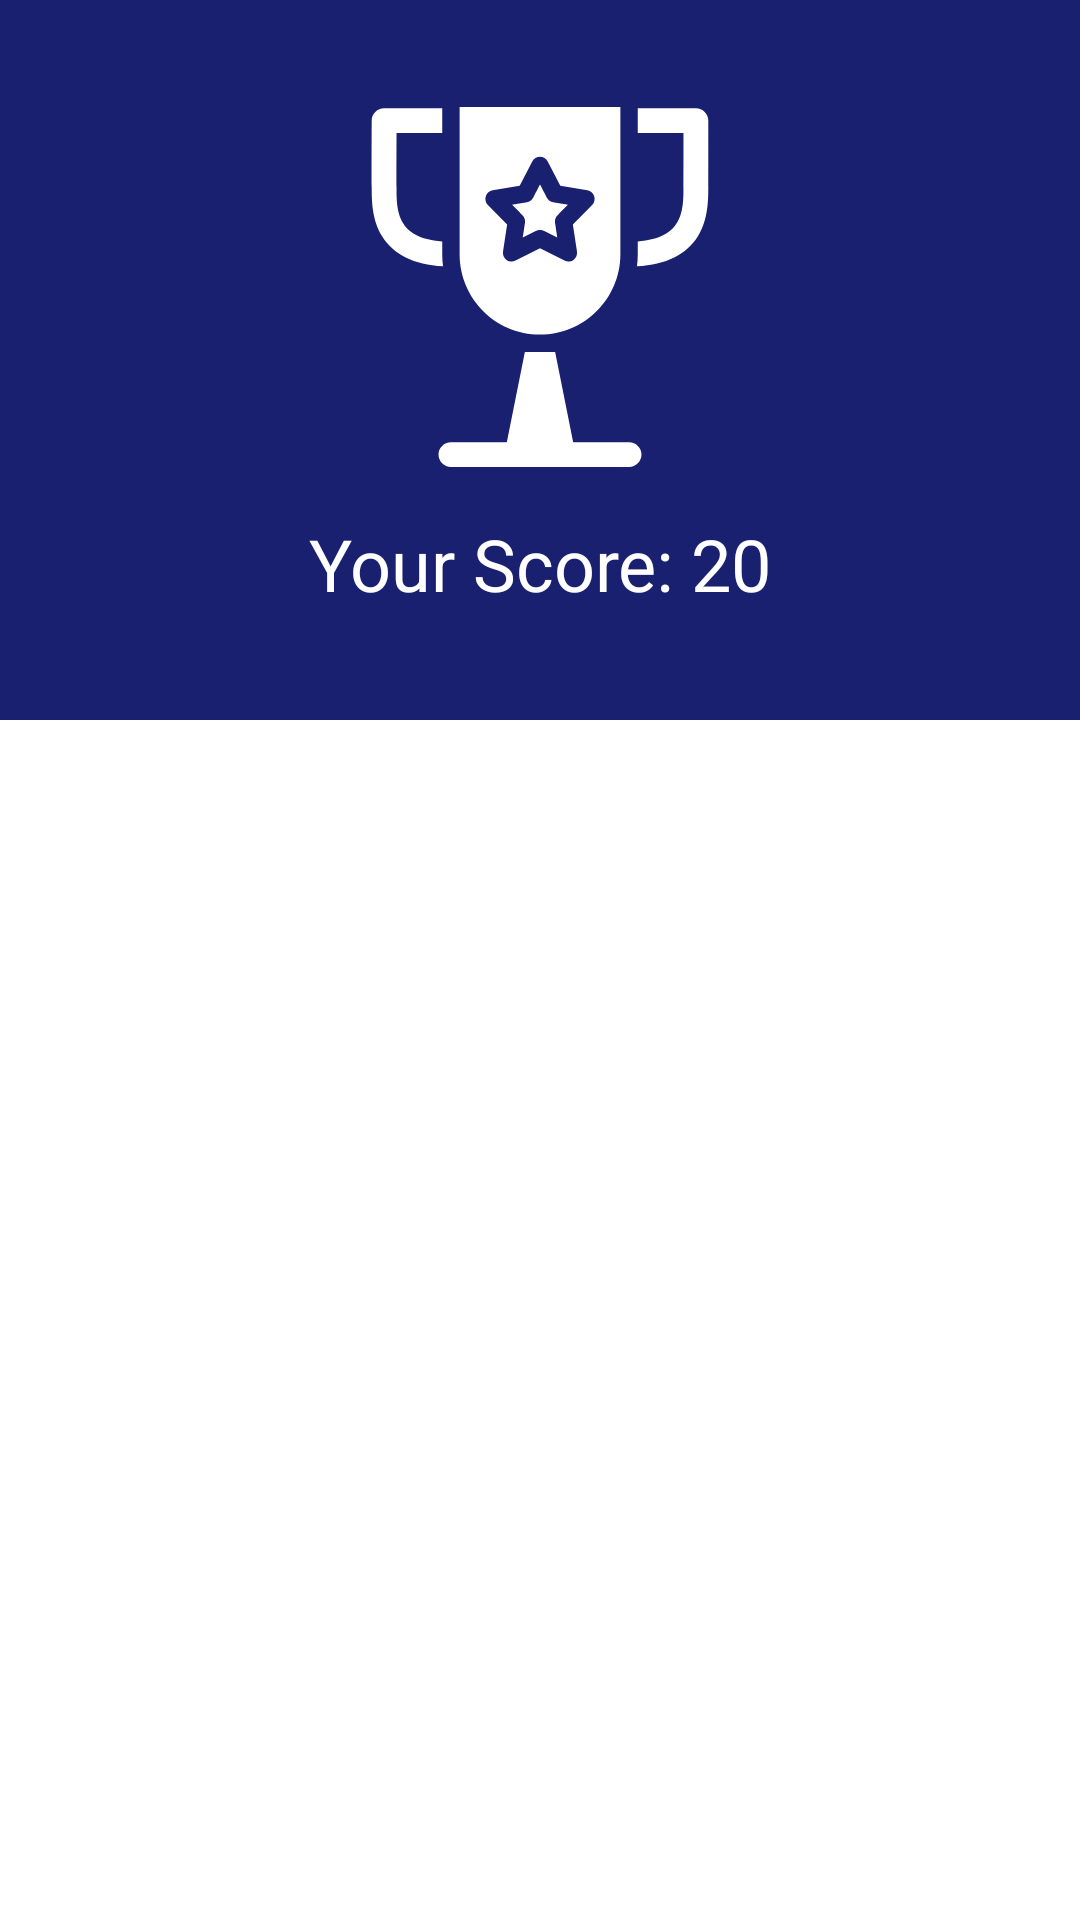

Icon bounding boxes for this 1080*1920 phone screenshot, format (x1, y1, x2, y2):
trophy: (371, 107, 709, 467)
